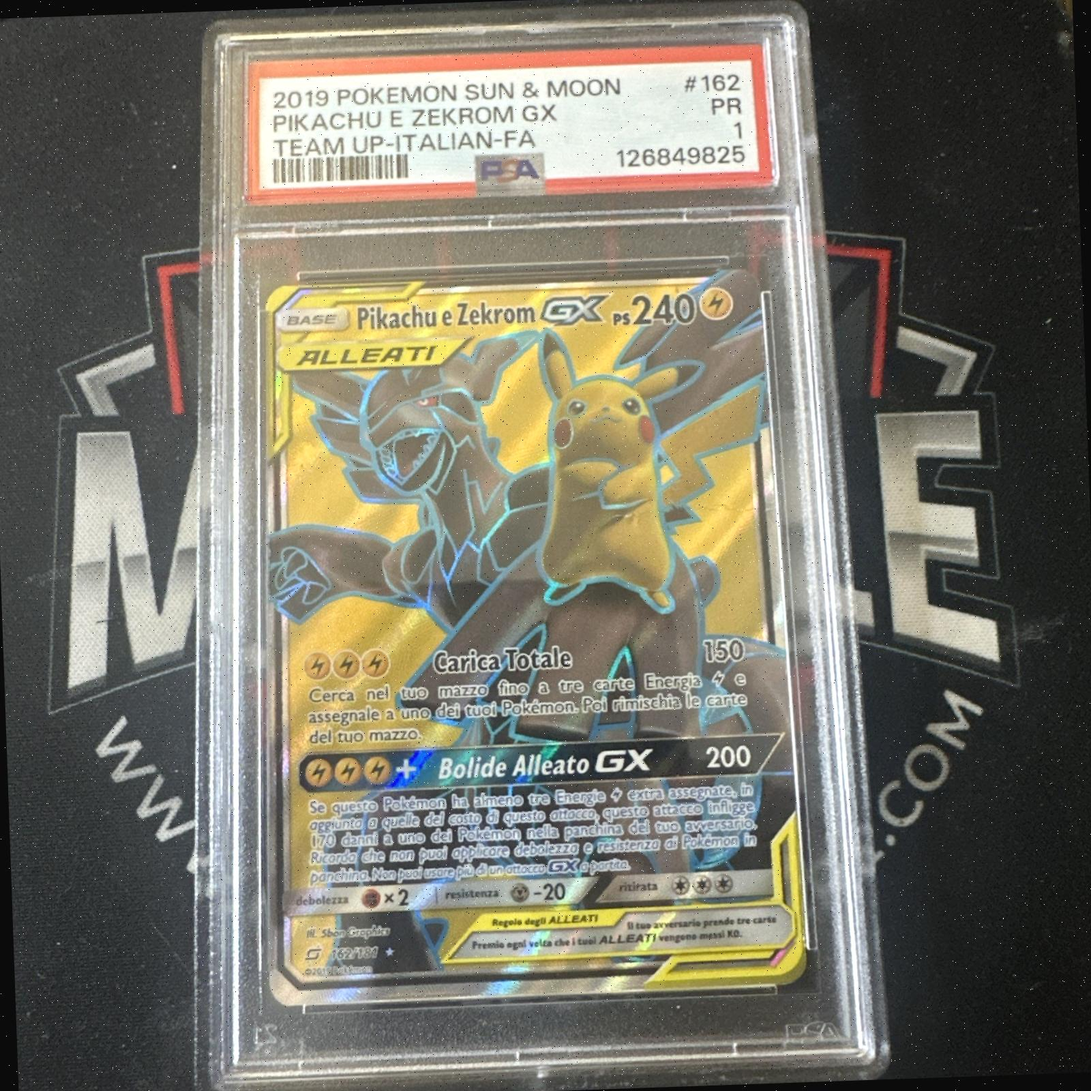card-2UtV: (265, 268, 807, 1006)
